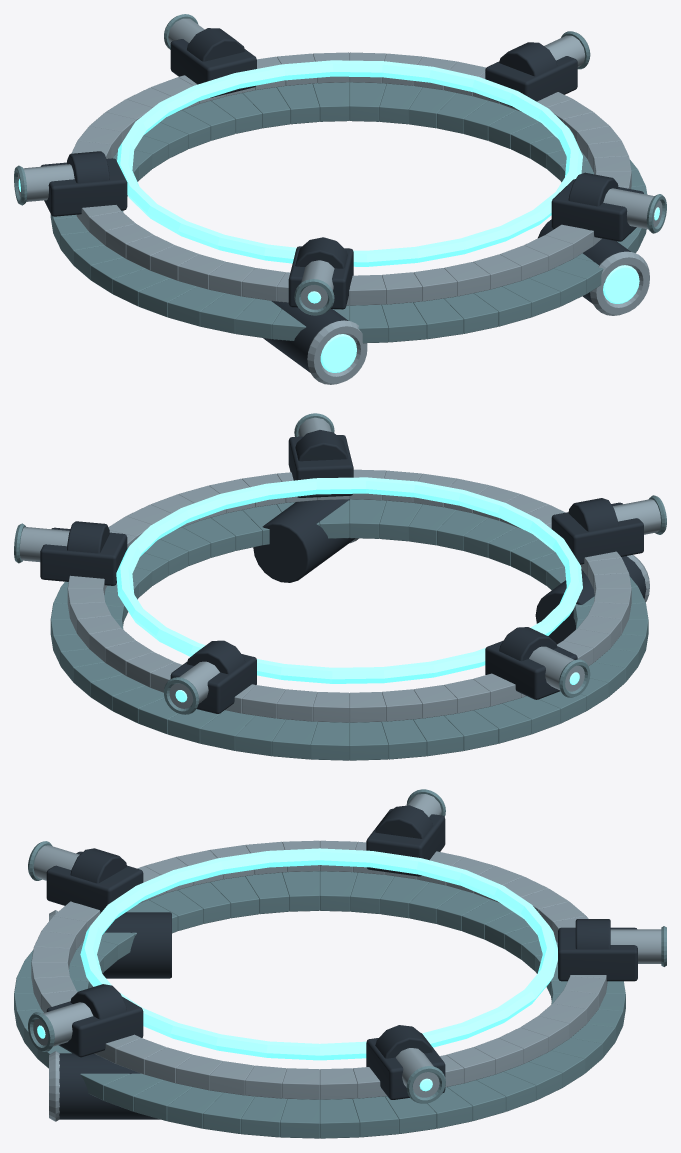
File: torusEnemy_orbita.glb
3 renders of one model, top to bottom at view 1: azimuth 30°, elevation 25°; view 2: azimuth 150°, elevation 25°; view 3: azimuth 270°, elevation 25°, orthographic. The views are drawn at different scales.
Parts seen in each view (by area): view 1: torusEnemy | ORBITA | armor, torusEnemy | Titanium, torusEnemy | ORBITA | energy, ring_rotor.003 | Graphite chassis, ring_rotor.003 | Titanium, torusEnemy | Graphite chassis, ring_rotor.003 | ORBITA | armor; view 2: torusEnemy | ORBITA | armor, torusEnemy | Titanium, ring_rotor.003 | Graphite chassis, torusEnemy | ORBITA | energy, torusEnemy | Graphite chassis, ring_rotor.003 | Titanium, ring_rotor.003 | ORBITA | armor; view 3: torusEnemy | ORBITA | armor, torusEnemy | Titanium, ring_rotor.003 | Graphite chassis, torusEnemy | ORBITA | energy, torusEnemy | Graphite chassis, ring_rotor.003 | Titanium, ring_rotor.003 | ORBITA | armor.
Boxes of the visible parts, x1,y1,x2,y2 form: torusEnemy | ORBITA | armor: (50, 82, 647, 343); torusEnemy | Titanium: (71, 52, 649, 384); torusEnemy | ORBITA | energy: (117, 60, 639, 372); ring_rotor.003 | Graphite chassis: (41, 28, 643, 309); ring_rotor.003 | Titanium: (17, 18, 662, 309); torusEnemy | Graphite chassis: (263, 219, 630, 372); ring_rotor.003 | ORBITA | armor: (14, 14, 666, 315); torusEnemy | ORBITA | armor: (50, 499, 648, 760); torusEnemy | Titanium: (67, 469, 649, 722); ring_rotor.003 | Graphite chassis: (40, 430, 643, 713); torusEnemy | ORBITA | energy: (116, 477, 582, 683); torusEnemy | Graphite chassis: (253, 499, 646, 644); ring_rotor.003 | Titanium: (20, 417, 660, 708); ring_rotor.003 | ORBITA | armor: (14, 413, 666, 714); torusEnemy | ORBITA | armor: (14, 871, 625, 1138); torusEnemy | Titanium: (31, 840, 607, 1121); ring_rotor.003 | Graphite chassis: (46, 805, 637, 1099); torusEnemy | ORBITA | energy: (80, 848, 557, 1060); torusEnemy | Graphite chassis: (59, 912, 171, 1119); ring_rotor.003 | Titanium: (33, 794, 661, 1097); ring_rotor.003 | ORBITA | armor: (28, 789, 666, 1103).
Bounding box in the file's own units: 1.93 × 0.402 × 1.88.
